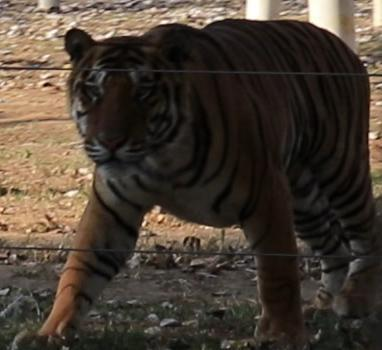tiger: (39, 19, 378, 343)
